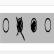correct: (30, 15, 37, 35)
not correct: (16, 12, 26, 42)
